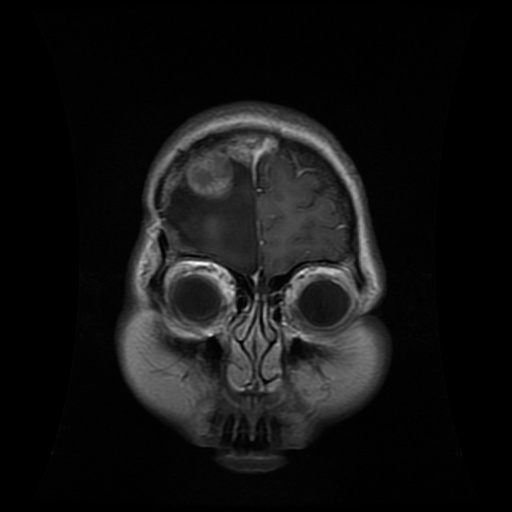glioma: (187, 138, 249, 198)
